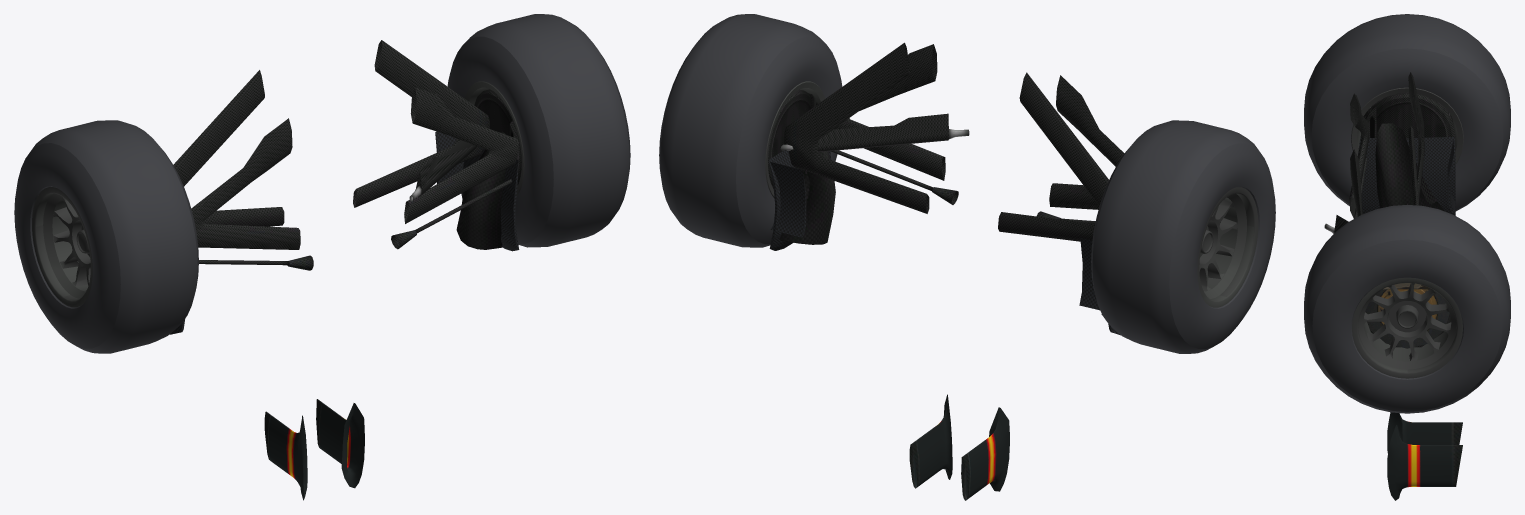
File: fwheel3.obj
3 views of the same model, side by side, from view 1: azimuth 30°, elevation 25°; view 2: azimuth 150°, elevation 25°; view 3: azimuth 270°, elevation 25° (orthographic). The views are drawn at different scales.
Parts seen in each view (by area): view 1: object__46, object__48, object__45, object__47, object__27, object__18, object__12, object__11, object__8, object__7, object__65, object__64 (+4 smaller); view 2: object__46, object__48, object__45, object__47, object__8, object__27, object__18, object__7, object__42, object__12, object__11, object__64 (+4 smaller); view 3: object__47, object__45, object__48, object__26, object__46, object__19, object__65, object__64, object__37, object__18, object__11, object__7 (+3 smaller).
Boxes of the visible parts, left/top/right/bottom form: object__46: left=31, top=120, right=197, bottom=353; object__48: left=465, top=14, right=629, bottom=247; object__45: left=14, top=143, right=198, bottom=348; object__47: left=447, top=36, right=630, bottom=244; object__27: left=435, top=89, right=521, bottom=251; object__18: left=32, top=187, right=92, bottom=307; object__12: left=404, top=87, right=518, bottom=223; object__11: left=191, top=118, right=300, bottom=249; object__8: left=353, top=40, right=489, bottom=207; object__7: left=173, top=70, right=284, bottom=226; object__65: left=316, top=399, right=364, bottom=488; object__64: left=264, top=411, right=307, bottom=500; object__46: left=1092, top=120, right=1258, bottom=353; object__48: left=660, top=14, right=825, bottom=247; object__45: left=1091, top=143, right=1275, bottom=348; object__47: left=659, top=36, right=842, bottom=244; object__8: left=784, top=42, right=929, bottom=213; object__27: left=768, top=89, right=835, bottom=250; object__18: left=1197, top=187, right=1258, bottom=307; object__7: left=998, top=72, right=1108, bottom=241; object__42: left=780, top=113, right=969, bottom=151; object__12: left=834, top=44, right=945, bottom=180; object__11: left=1049, top=75, right=1124, bottom=209; object__64: left=961, top=407, right=1009, bottom=500; object__47: left=1312, top=239, right=1502, bottom=411; object__45: left=1311, top=48, right=1503, bottom=209; object__48: left=1304, top=204, right=1510, bottom=413; object__26: left=1358, top=92, right=1455, bottom=215; object__46: left=1304, top=14, right=1510, bottom=211; object__19: left=1352, top=277, right=1462, bottom=378; object__65: left=1387, top=425, right=1462, bottom=500; object__64: left=1387, top=412, right=1462, bottom=452; object__37: left=1365, top=289, right=1449, bottom=348; object__18: left=1351, top=87, right=1463, bottom=164; object__11: left=1349, top=93, right=1368, bottom=218; object__7: left=1408, top=72, right=1424, bottom=205.
Size of the model in its own units: 1.73 by 1.36 by 0.6512.
